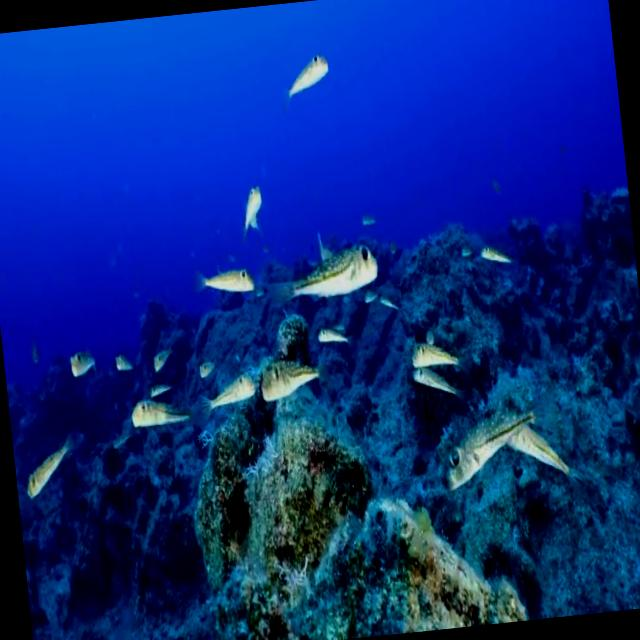Balon Baligi: (429, 392, 548, 491), (280, 235, 378, 304), (20, 428, 84, 499), (121, 384, 188, 436), (191, 253, 257, 298), (282, 44, 334, 100), (203, 365, 258, 410), (404, 326, 459, 370), (471, 233, 518, 276), (234, 177, 266, 234), (64, 342, 98, 383), (146, 338, 180, 372), (110, 342, 132, 374)
